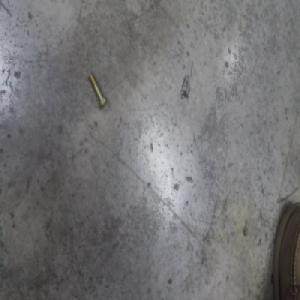Bolt: (88, 71, 108, 111)
